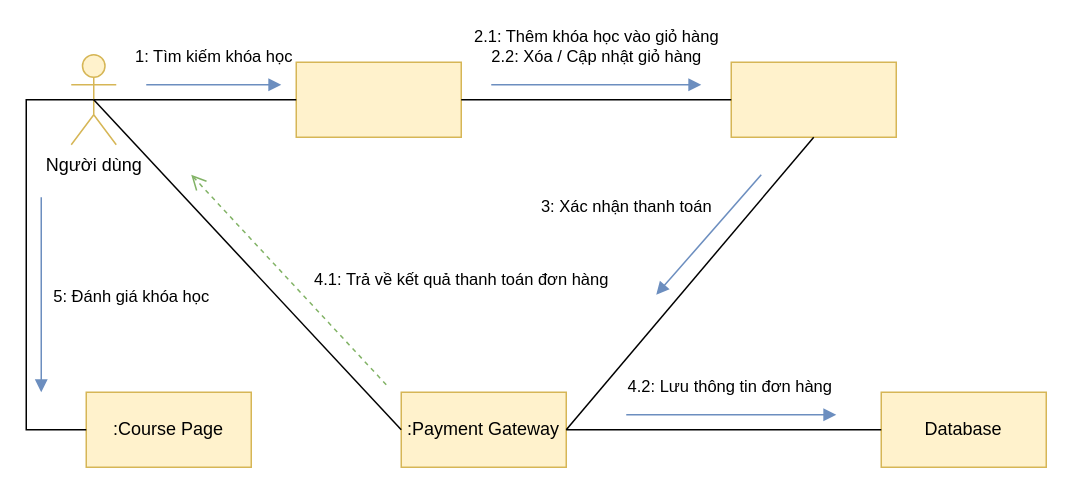
This 1073x494 diagram has some shape labels left out. The shapes that lost their labels are listed below. From the top down, each one's centre as x and y in pixels, then its label:
[378,99]: :Search Page
[813,99]: :Shopping Cart
